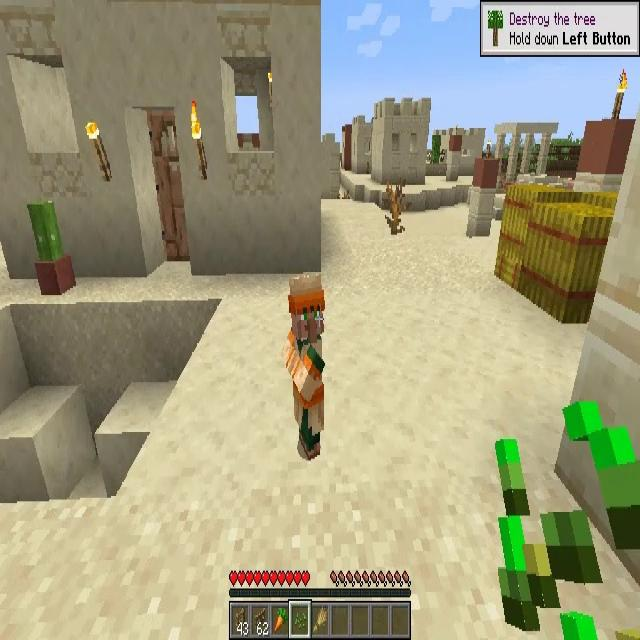people: (288, 271, 326, 458)
